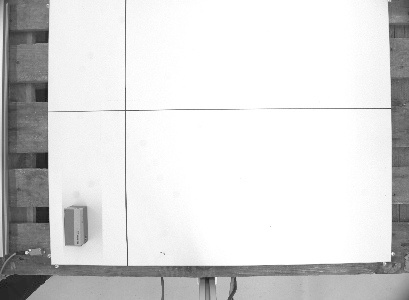b3: (61, 204, 90, 247)
